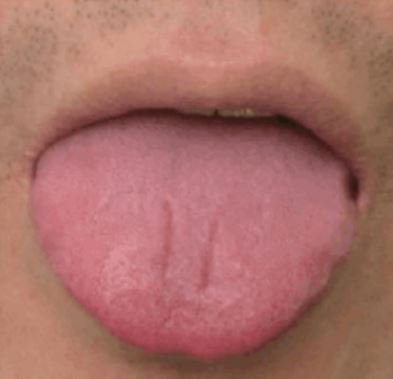pangdashe: (33, 114, 357, 358)
